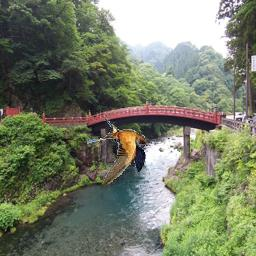Swallow: (88, 119, 147, 188)
